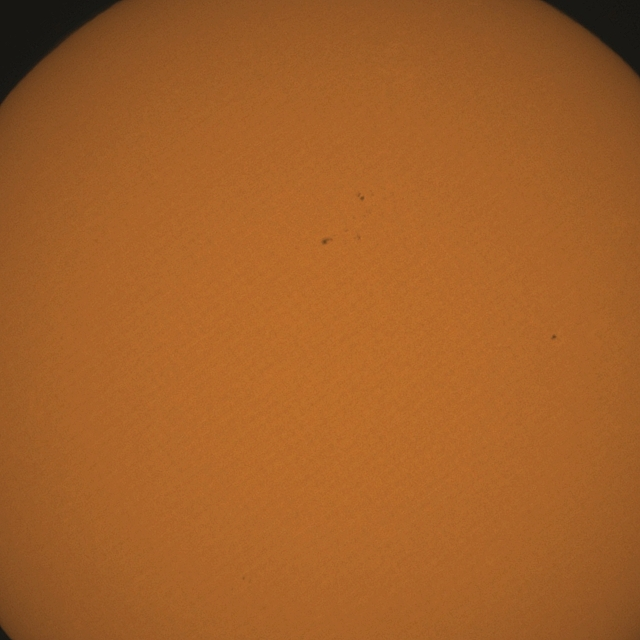sunspot: (356, 189, 375, 203), (320, 236, 334, 246), (356, 192, 365, 202), (550, 333, 558, 341)
